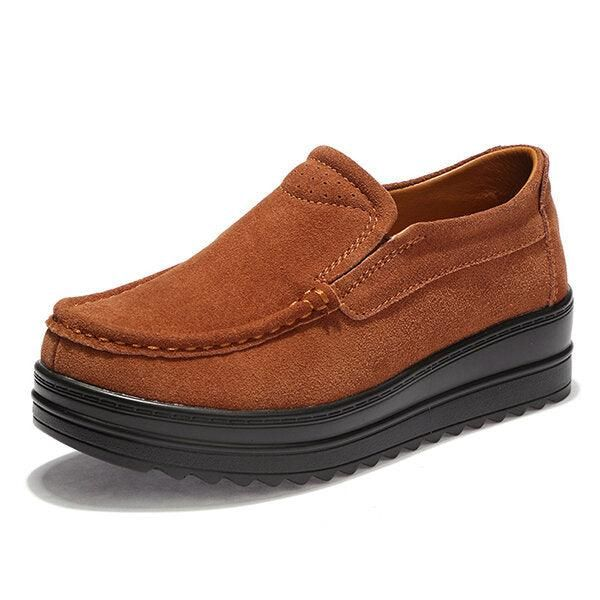gamuza: (41, 144, 570, 413)
